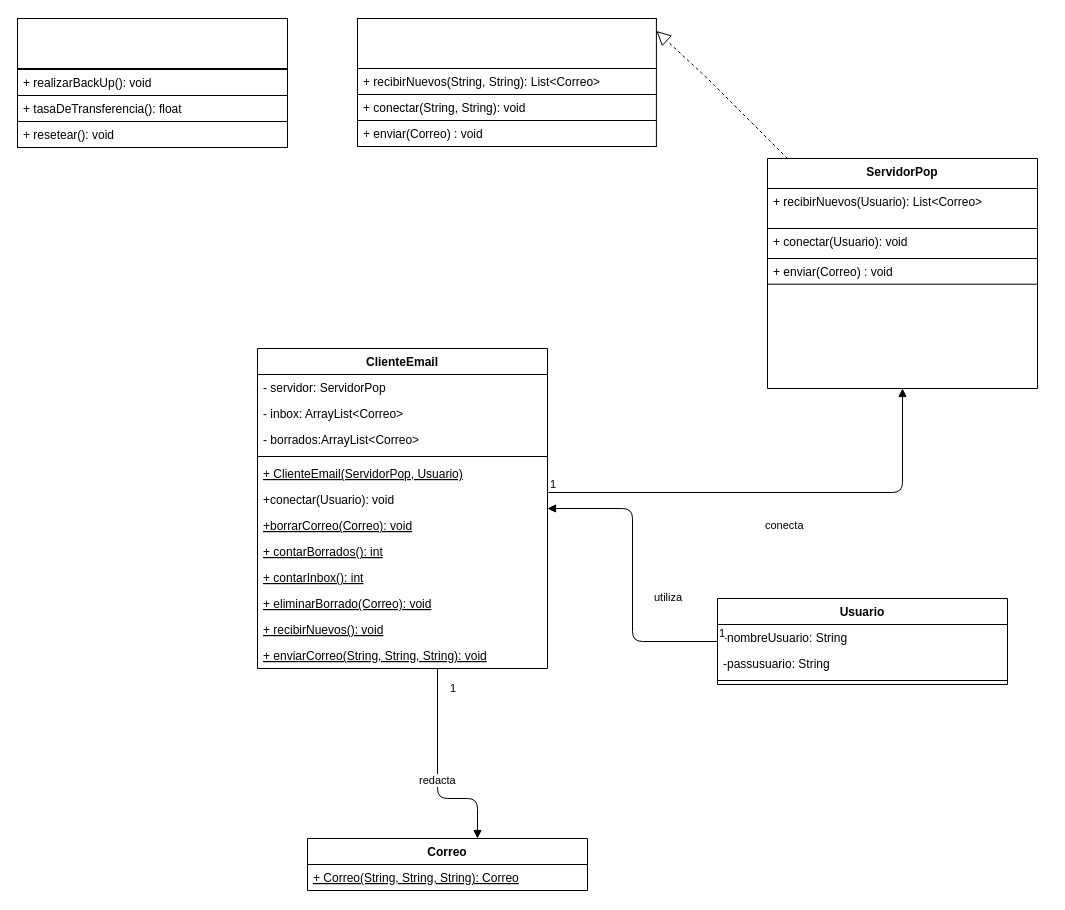
The diagram is 1065 pixels wide and 910 high, and some of its shapes have lost their labels. The shapes that lost their labels are listed below. From the top down, each one's centre as x and y in pixels, then its label:
At point (152, 43): "«interface» IOtroTipoServidor".
At point (506, 43): "«interface» IServidor".
